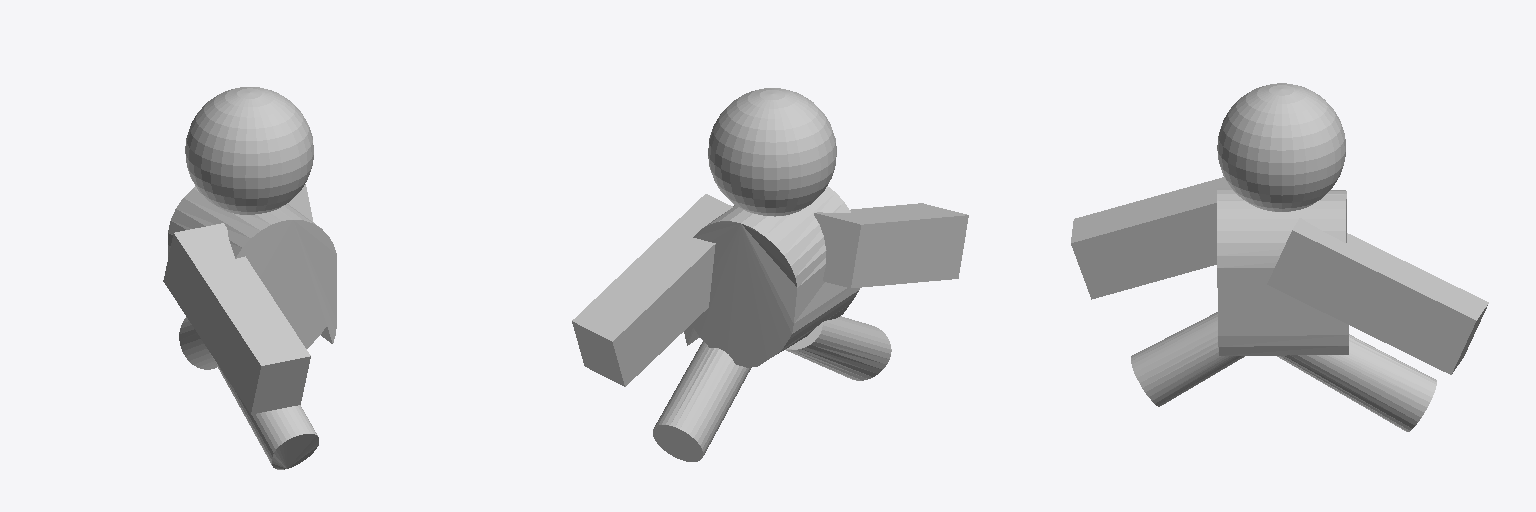
File: Figurine148.obj
3 renders of one model, left to right at view 1: azimuth 30°, elevation 25°; view 2: azimuth 150°, elevation 25°; view 3: azimuth 270°, elevation 25°, orthographic.
Visible parts, largest first — view 1: Cylinder; view 2: Cylinder; view 3: Cylinder.
Boxes of the visible parts, x1,y1,x2,y2 form: Cylinder: [163, 87, 336, 469]; Cylinder: [572, 88, 968, 461]; Cylinder: [1071, 83, 1488, 431].
Bounding box in the file's own units: 3.49 × 5.6 × 6.47.